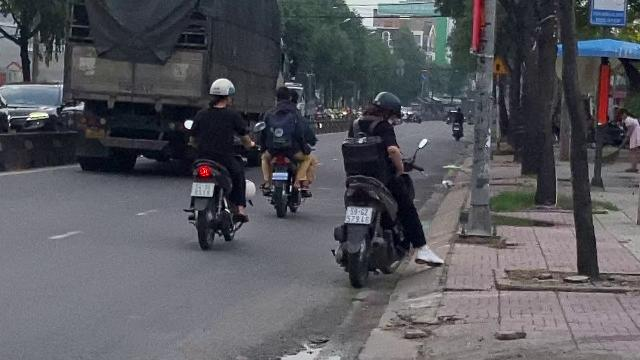helmet: (372, 90, 402, 120), (207, 78, 235, 106)
licenseplate: (345, 206, 371, 222), (191, 182, 213, 196), (272, 172, 288, 180)
motorcyclist: (330, 86, 428, 286), (180, 77, 252, 249), (255, 85, 318, 217)
nohelmet: (273, 86, 293, 106)
